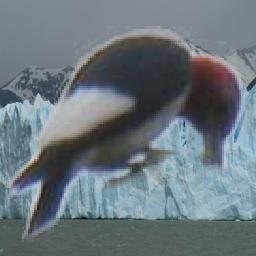Woodpecker: (3, 27, 252, 244)
